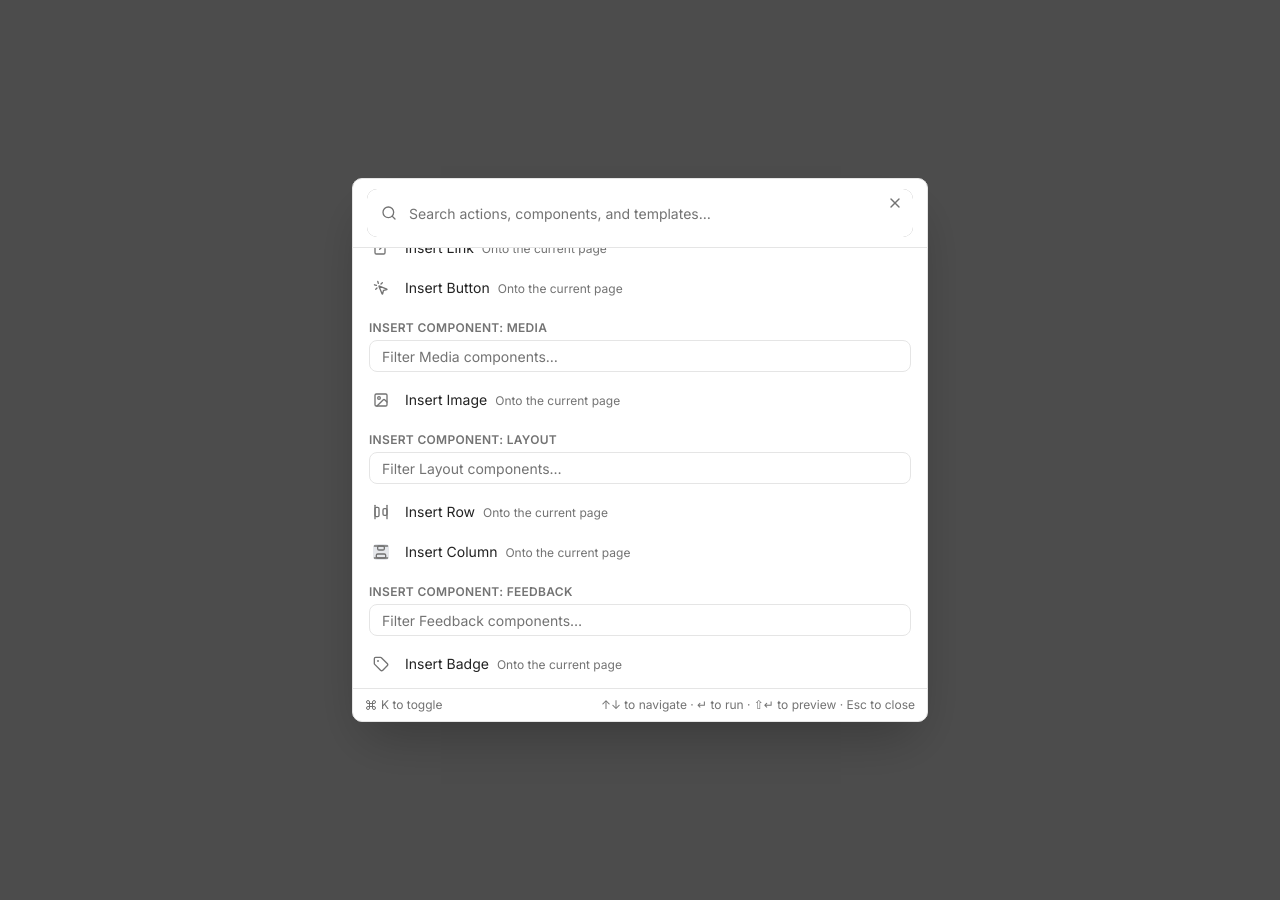
it: CommandPalette › groups insert components by category and narrows them with the insert filter
(page scrolled)
Expected: the text "Insert component: Layout" is shown, [369,432,557,447]
Expected: the text "Insert component: Media" is shown, [369,320,547,335]
Type "column" into the field named "Filter Insert component: Layout components" at (640, 468), box [369,452,911,484]
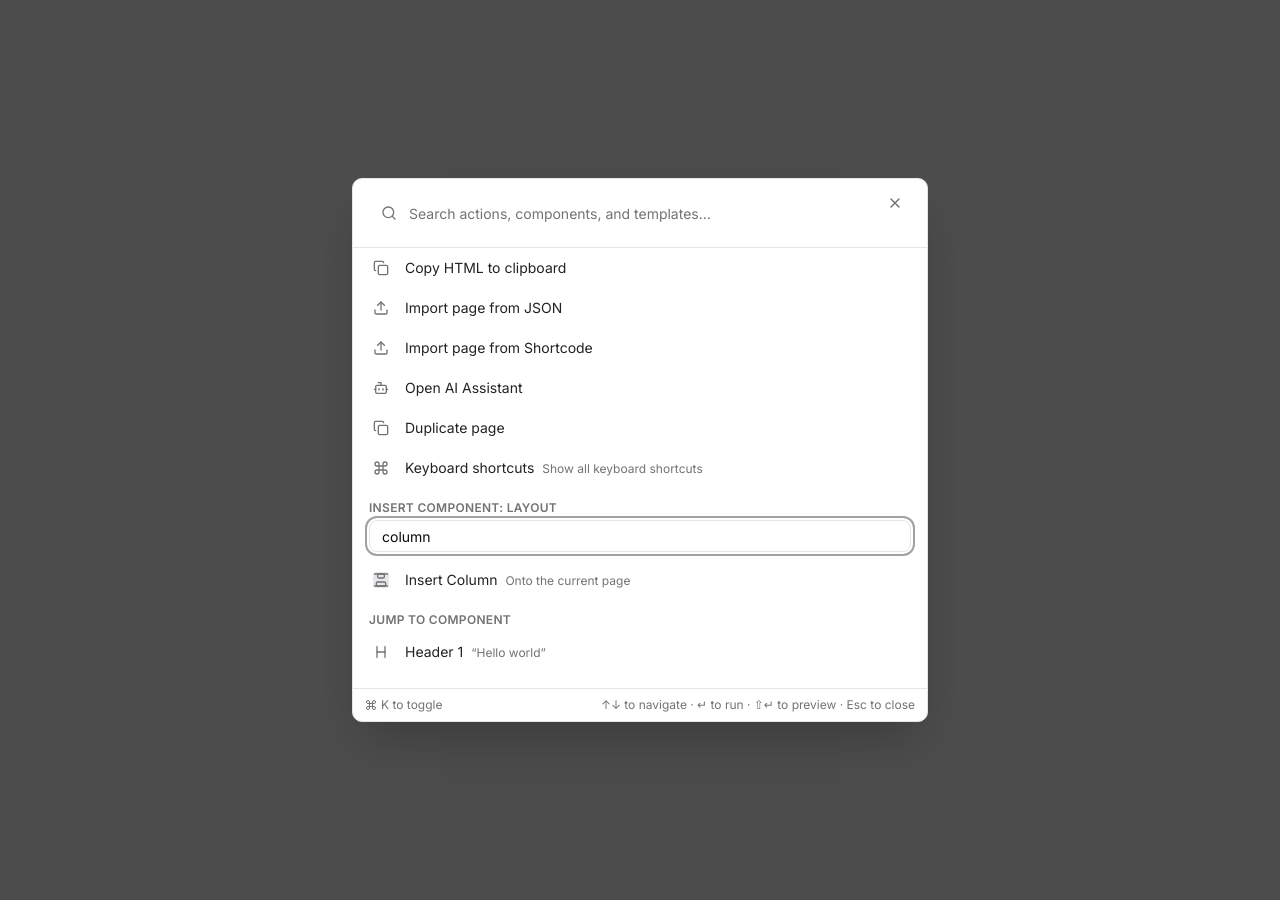
Expected: the text "Insert Column" is shown, [405,571,497,588]
Now the button "Insert Row" is gone
Clear the field named "Filter Insert component: Layout components" at (640, 536), box [369,520,911,552]
(page scrolled)
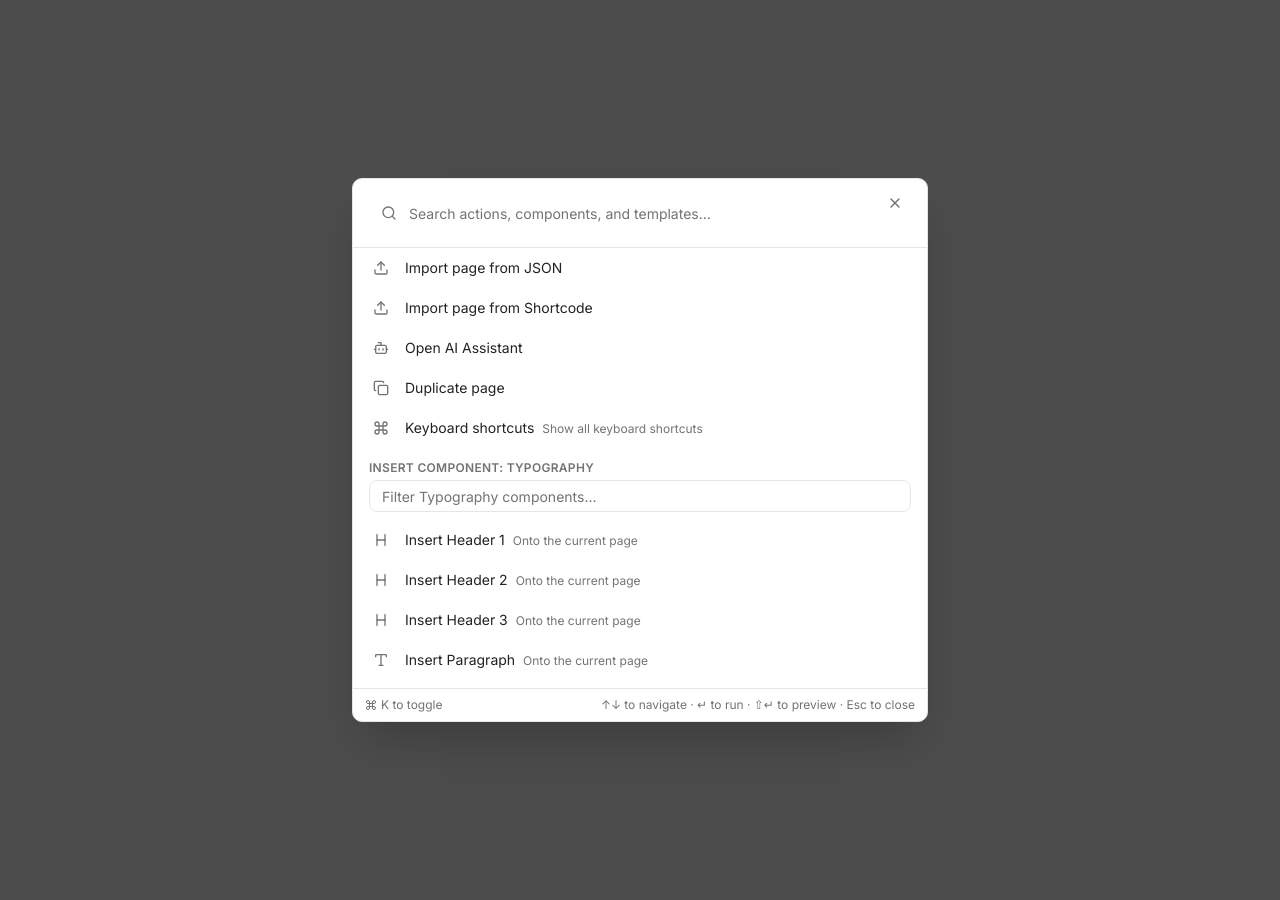
Now the text "Insert component: Typography" is shown, box [369,460,594,475]
